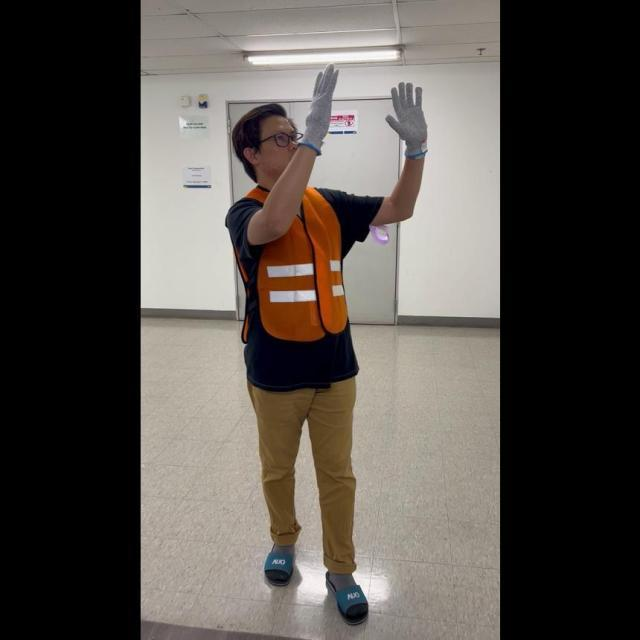gloved_hand: (383, 78, 429, 158), (296, 62, 337, 150)
